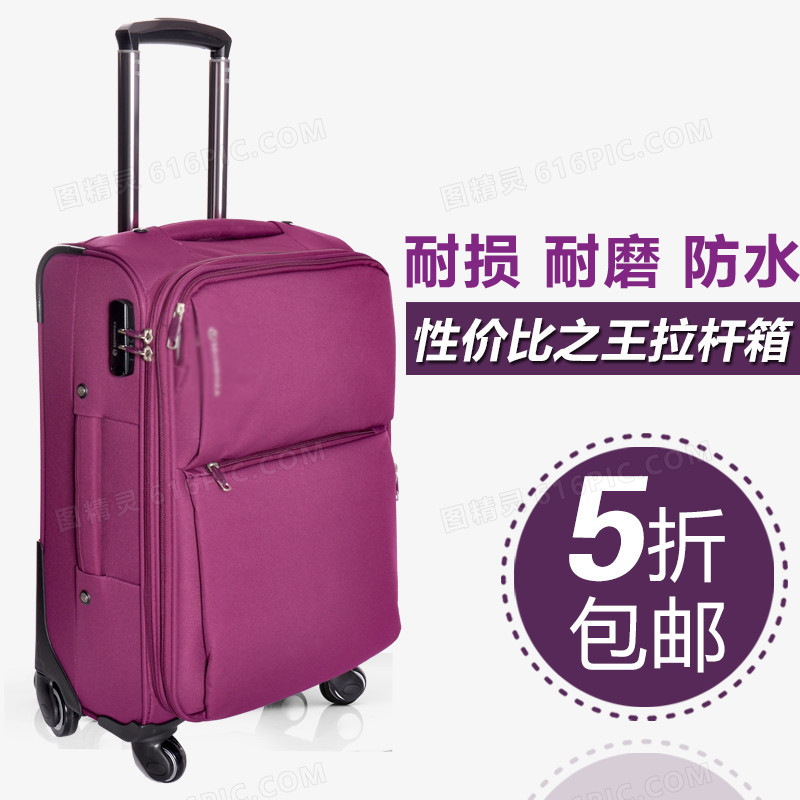box: (37, 219, 401, 728)
handle: (74, 418, 104, 580), (133, 218, 291, 242)
lock: (108, 298, 150, 379)
wheel: (35, 677, 81, 737), (131, 734, 187, 783), (318, 665, 366, 705)
